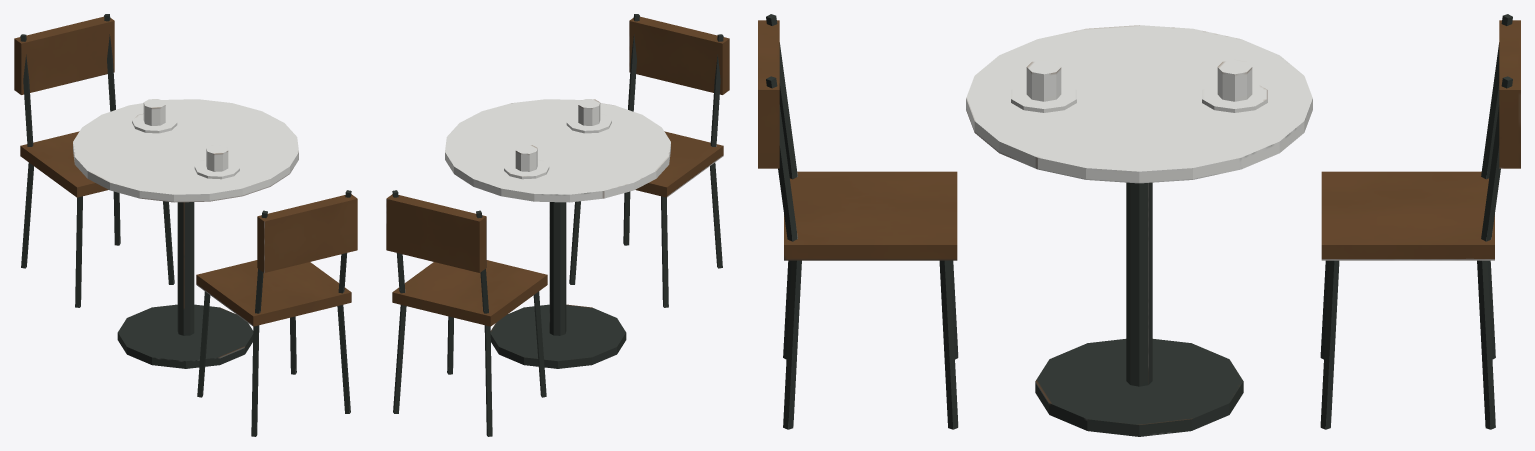
File: stolek_kavarna_398776c2.glb
3 renders of one model, left to right at view 1: azimuth 30°, elevation 25°; view 2: azimuth 150°, elevation 25°; view 3: azimuth 270°, elevation 25°, orthographic. The views are drawn at different scales.
Parts seen in each view (by area): view 1: dum; view 2: dum; view 3: dum.
Part boxes in pixels (x1,y1,x2,y2): dum: (14, 14, 357, 436); dum: (386, 14, 729, 436); dum: (758, 14, 1520, 436).
Bounding box in the file's own units: 0.798 × 0.8797 × 1.76.
1 material, 1 textured.
